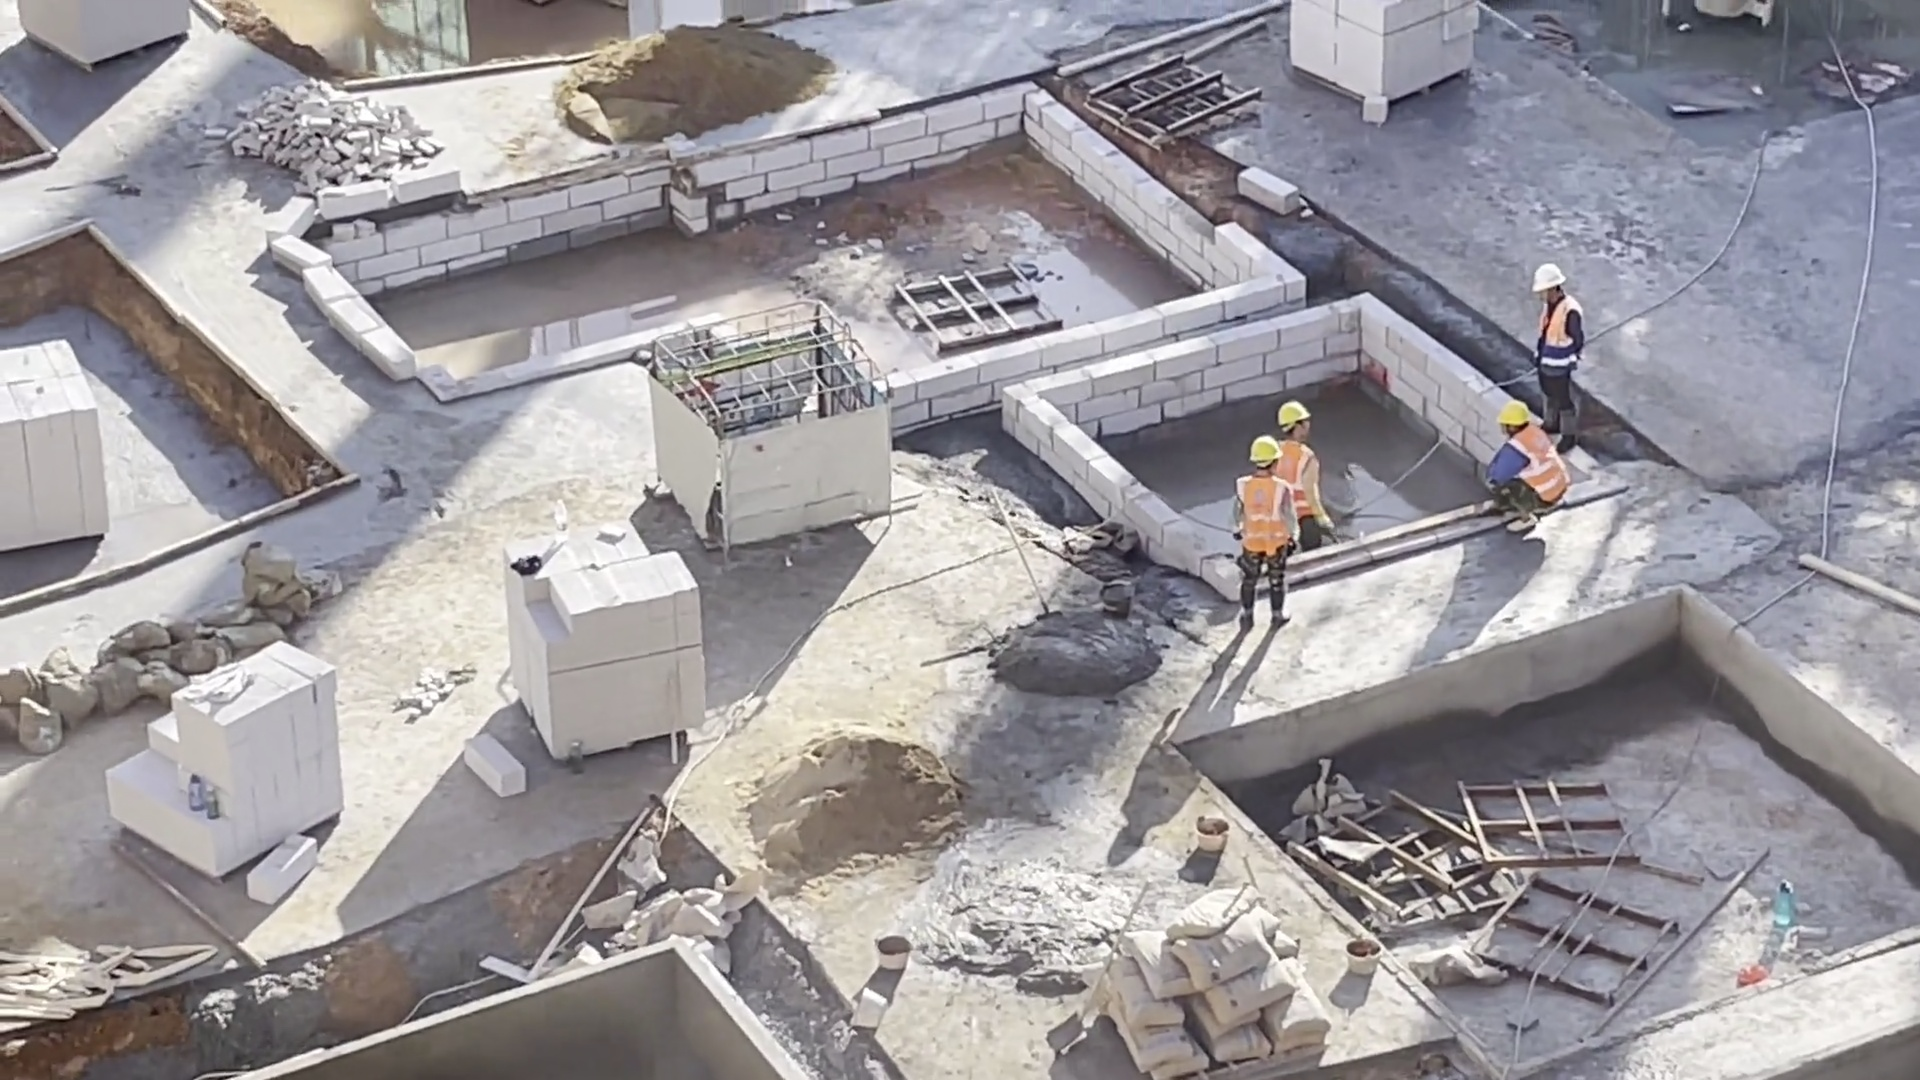brick: (459, 549, 725, 813), (99, 635, 354, 880), (1, 323, 114, 554), (1270, 1, 1445, 79)
helmet: (1274, 398, 1307, 434), (1493, 396, 1526, 430), (1249, 430, 1282, 463), (1533, 265, 1559, 290)
person: (1474, 389, 1567, 543), (1237, 413, 1301, 613), (1522, 250, 1578, 424), (1270, 382, 1322, 548)
vest: (1242, 478, 1294, 552), (1518, 429, 1564, 508), (1538, 301, 1578, 368), (1278, 441, 1313, 516)
